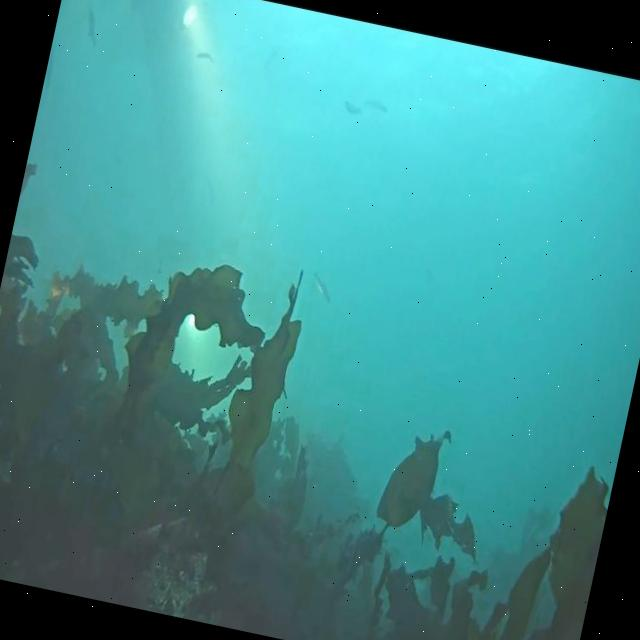fish: (308, 268, 336, 304), (81, 8, 101, 46), (362, 96, 390, 112), (342, 98, 363, 116), (196, 50, 214, 62)
